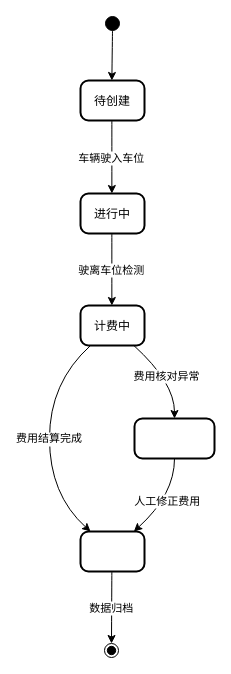
Image size: 231x674. Some labels were removed from this diagram. Each missing label, with the centre of its shape:
争议处理: pixel 174 438
已完成: pixel 112 551
